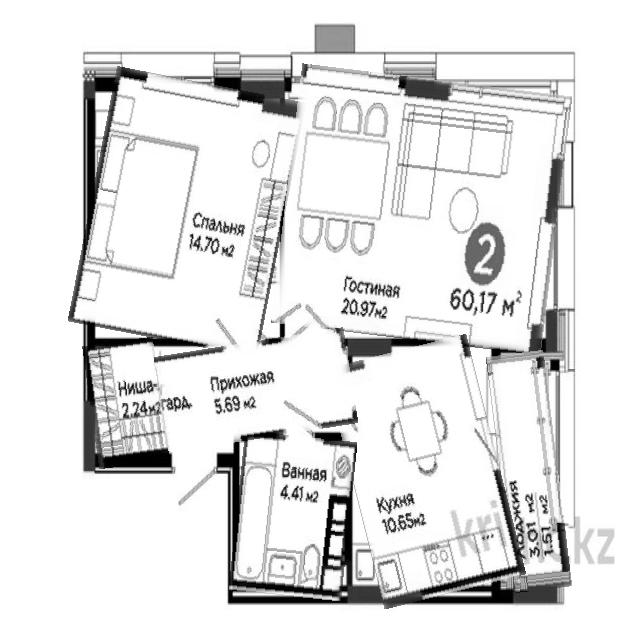balcony: (493, 352, 565, 592)
bathroom: (232, 433, 353, 599)
hallway: (157, 334, 356, 445)
kitchen: (339, 341, 512, 602)
living_room: (278, 71, 565, 348), (78, 74, 294, 350)
other: (86, 339, 165, 467)
